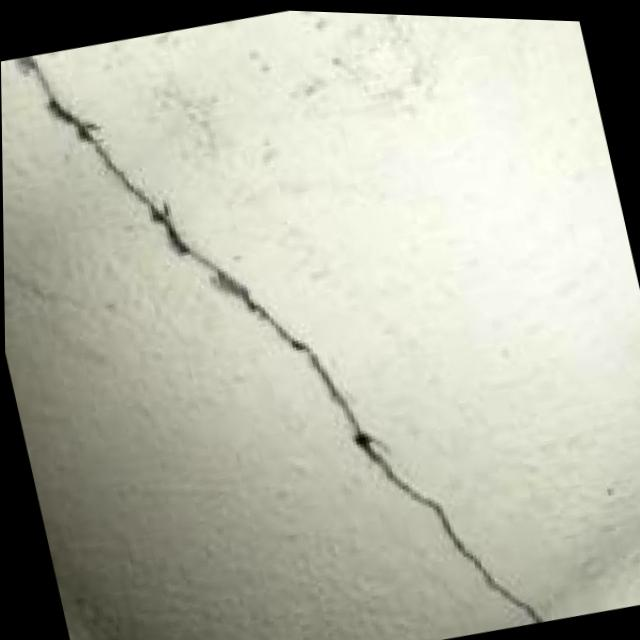Crack: (9, 0, 566, 640)
